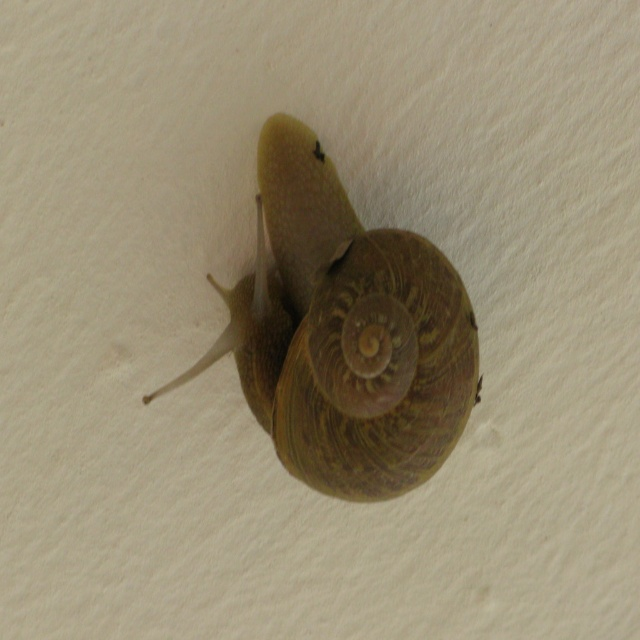Snail: (141, 110, 484, 506)
